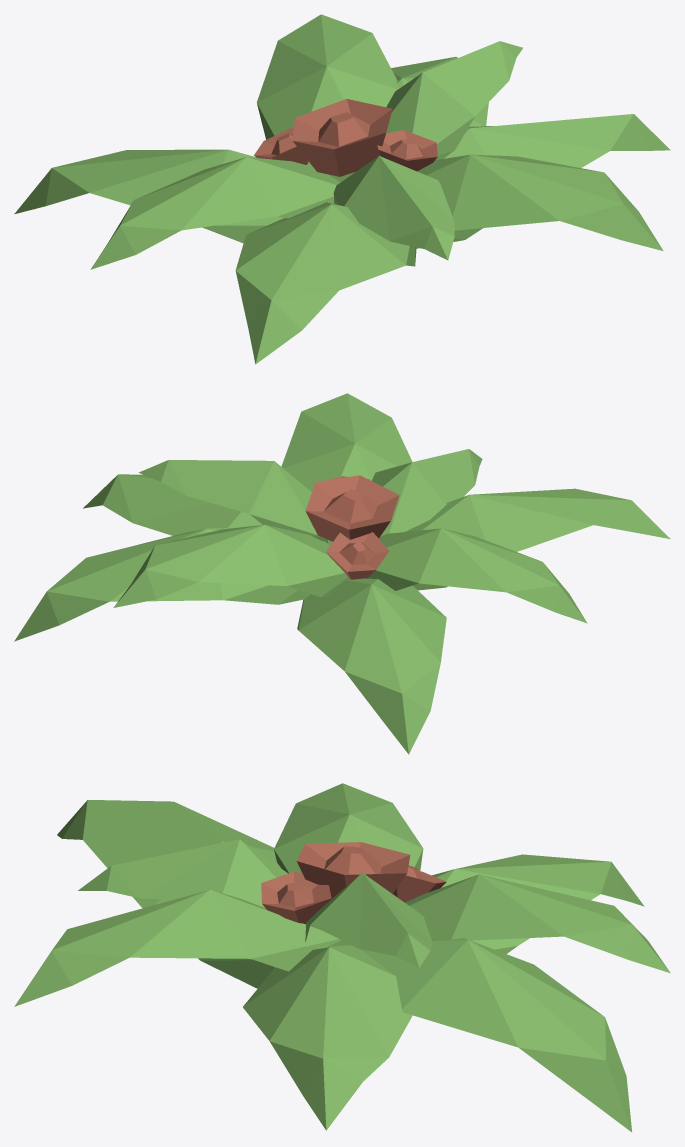
The model's file is SM_Env_Plant_01.fbx.
The picture shows the model from 3 angles, top to bottom: view 1: azimuth 30°, elevation 25°; view 2: azimuth 150°, elevation 25°; view 3: azimuth 270°, elevation 25°; orthographic projection. The views are drawn at different scales.
Visible parts, largest first — view 1: SM_Env_Plant_01; view 2: SM_Env_Plant_01; view 3: SM_Env_Plant_01.
Boxes of the visible parts, x1=… form: SM_Env_Plant_01: x1=14, y1=14, x2=670, y2=364; SM_Env_Plant_01: x1=14, y1=393, x2=670, y2=754; SM_Env_Plant_01: x1=14, y1=783, x2=670, y2=1132.
Bounding box in the file's own units: 0.0246 × 0.00686 × 0.0222.
1 material, 1 textured.
